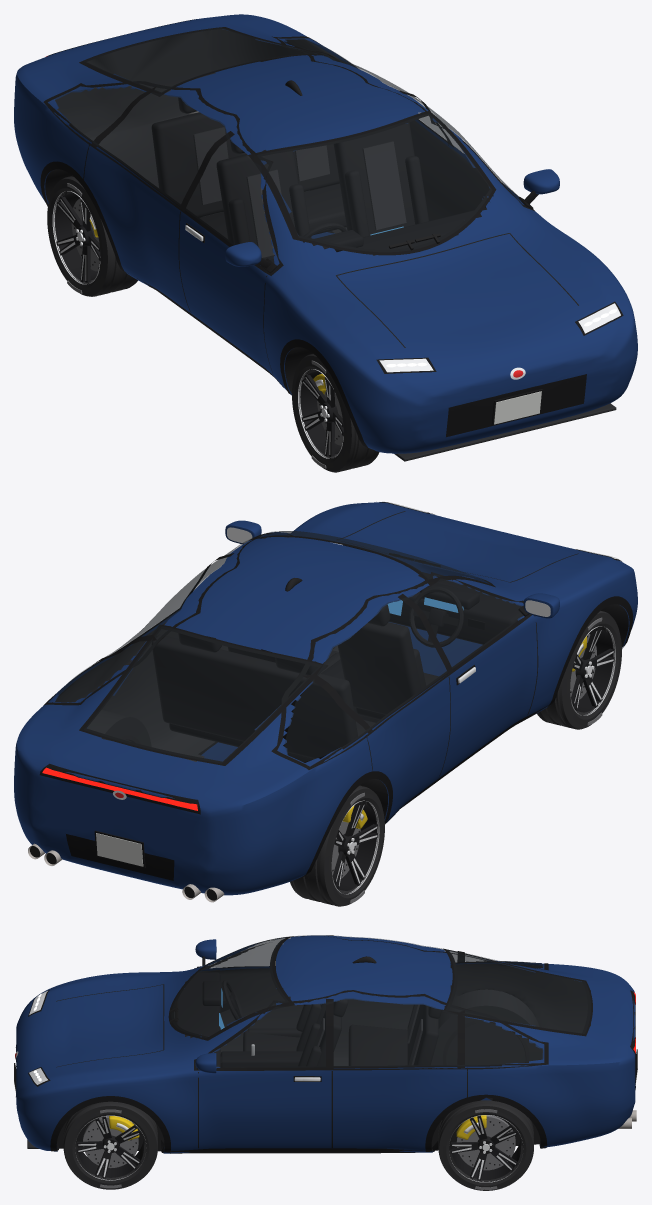
Rendered from purosangue.glb.
The picture shows the model from 3 angles, top to bottom: view 1: azimuth 30°, elevation 25°; view 2: azimuth 150°, elevation 25°; view 3: azimuth 270°, elevation 25°; orthographic projection. The views are drawn at different scales.
Parts seen in each view (by area): view 1: Body, Wheel_RR, Wheel_FR; view 2: Body, Wheel_RR, Wheel_FR; view 3: Body, Wheel_RL, Wheel_FL, Wheel_RR.
Part boxes in pixels (x1,y1,x2,y2): Body: [14, 14, 637, 461]; Wheel_RR: [47, 175, 137, 296]; Wheel_FR: [292, 353, 379, 472]; Body: [14, 501, 637, 902]; Wheel_RR: [290, 785, 384, 906]; Wheel_FR: [537, 611, 621, 729]; Body: [14, 935, 637, 1153]; Wheel_RL: [438, 1100, 533, 1190]; Wheel_FL: [63, 1101, 157, 1189]; Wheel_RR: [442, 1020, 529, 1065].
Bounding box in the file's own units: 2.38 × 1.62 × 5.02.
